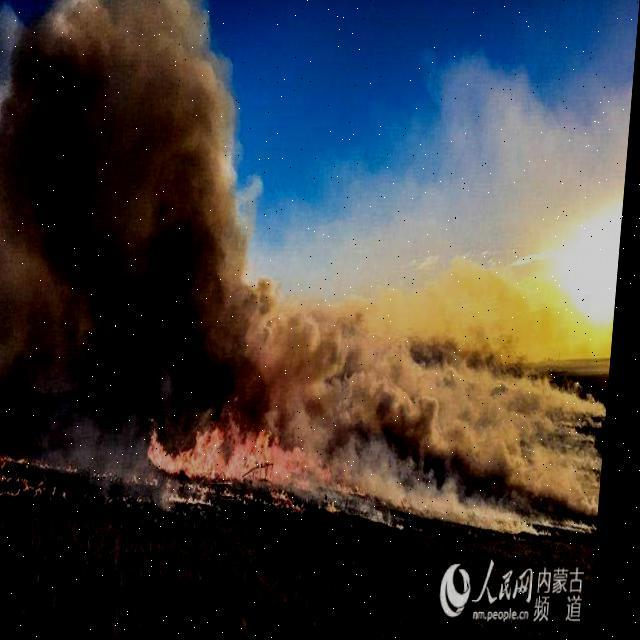Fire: (150, 420, 376, 524)
